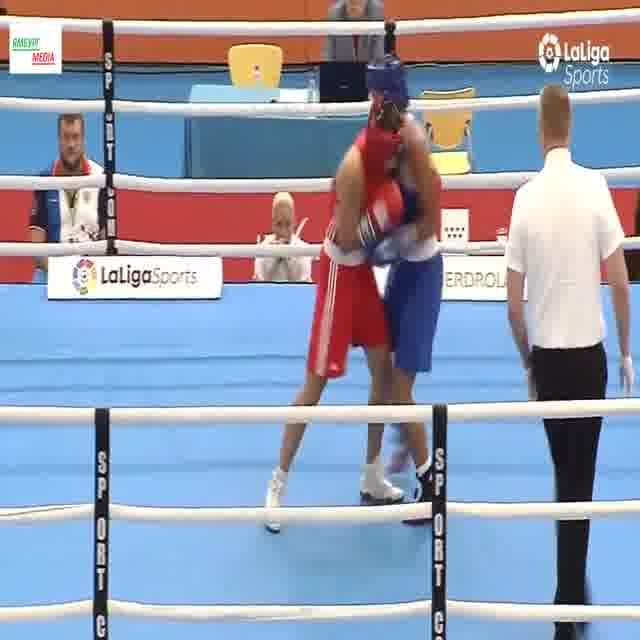blue-player: (353, 50, 455, 536)
red-player: (260, 89, 444, 538)
referee: (494, 86, 640, 640)
